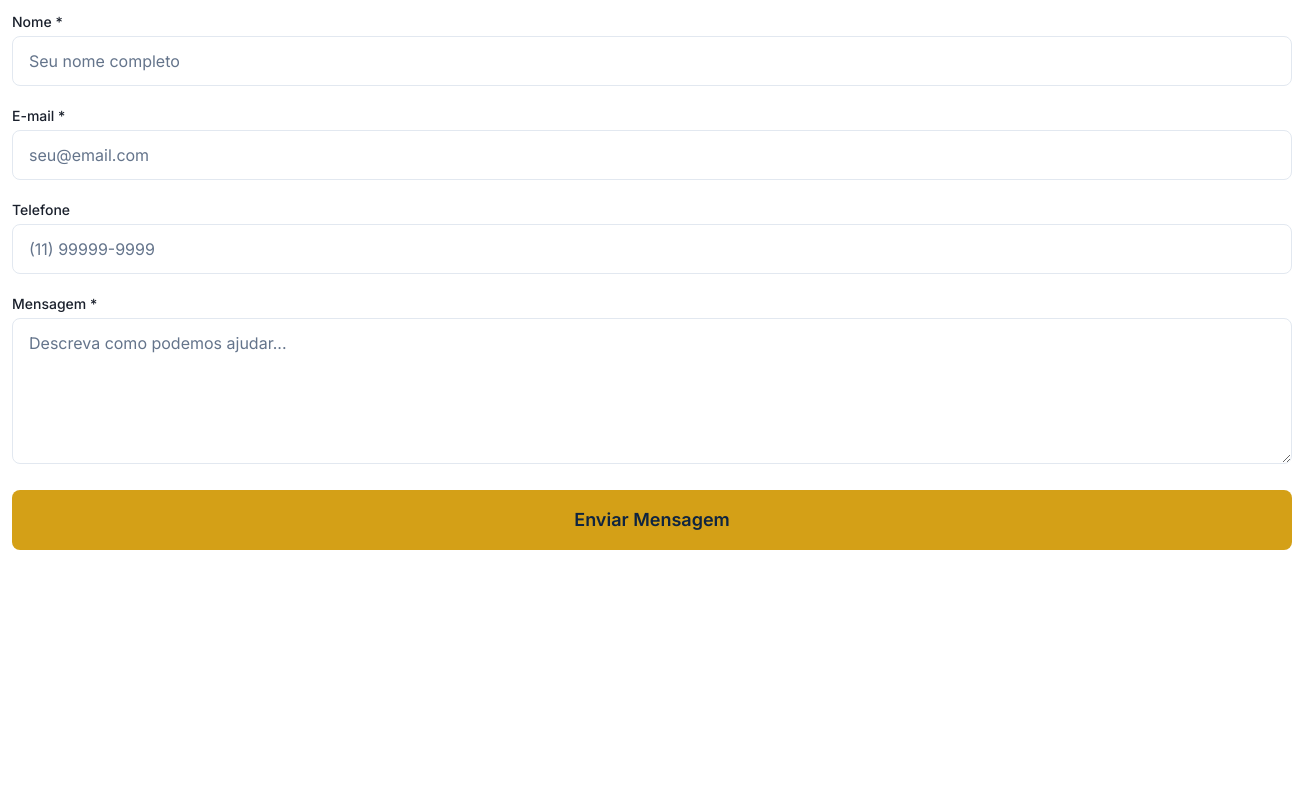
Test: ContactForm component › should show validation errors on empty submit
The image size is (1304, 812).
Click the button "Enviar Mensagem" at (652, 520), box [12,490,1292,550]
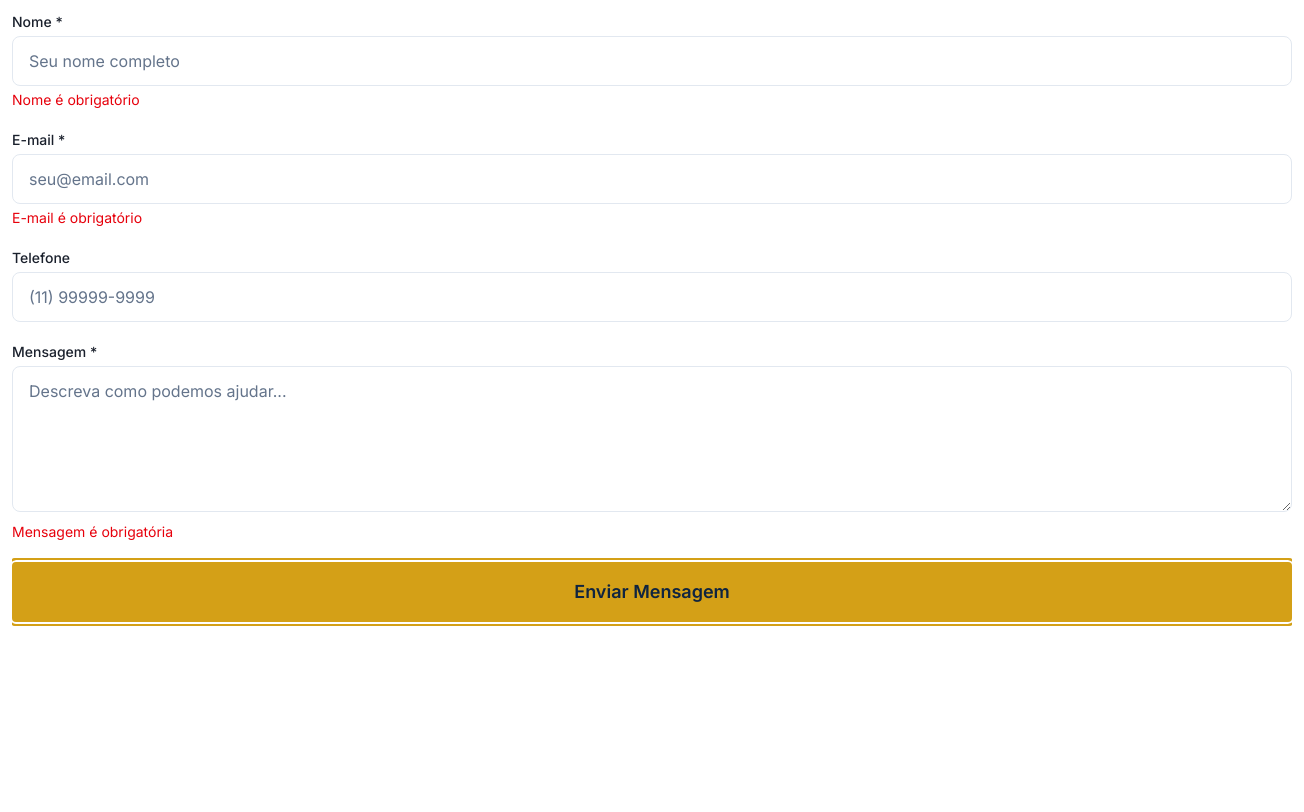
Expected: the text "Nome é obrigatório" is shown, [12,91,140,108]
Expected: the text "E-mail é obrigatório" is shown, [12,209,142,226]
Expected: the text "Mensagem é obrigatória" is shown, [12,523,173,540]
